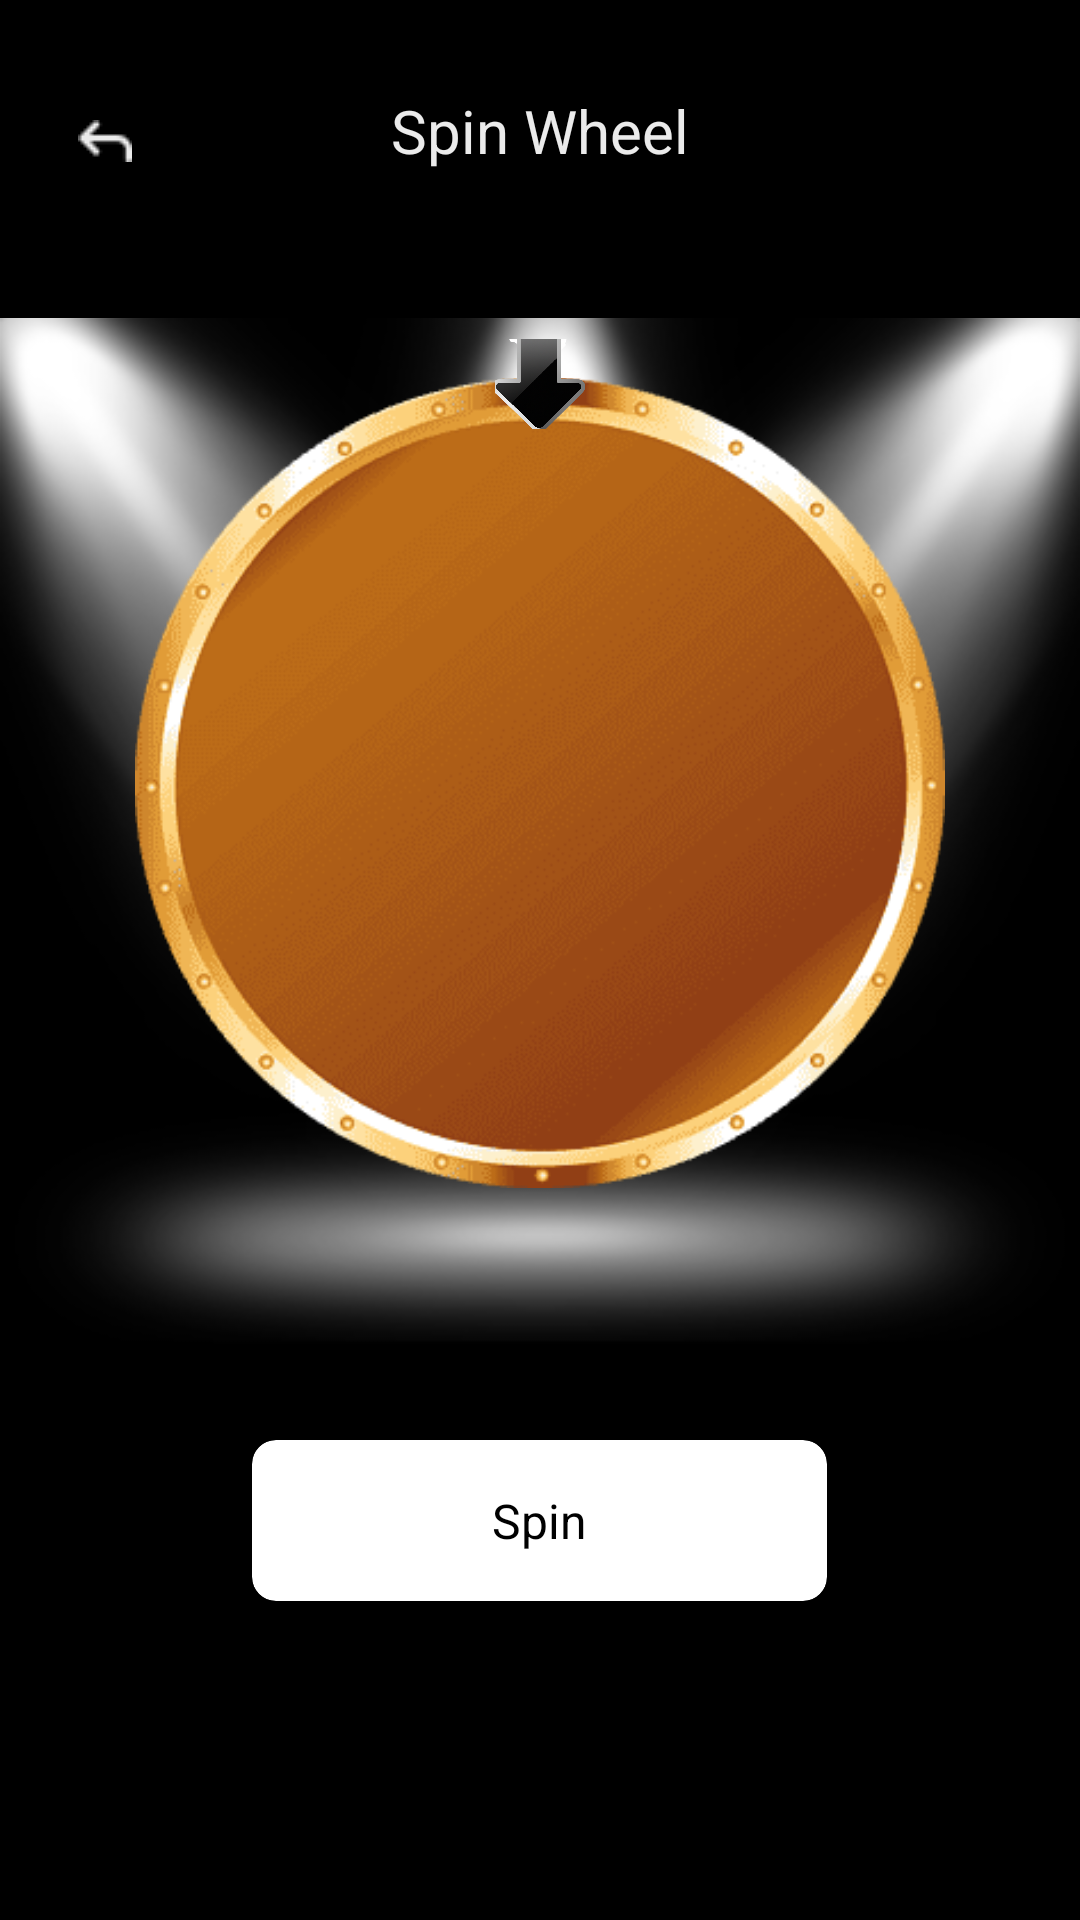

Screen size 1080 × 1920. Icon name, then its center in pixels as (x=x, y=y):
back: (x=105, y=141)
pointer: (x=540, y=384)
